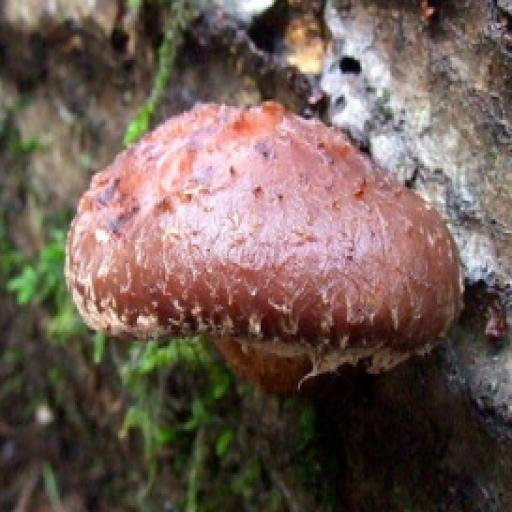Shiitake Mushroom: (61, 67, 492, 399)
